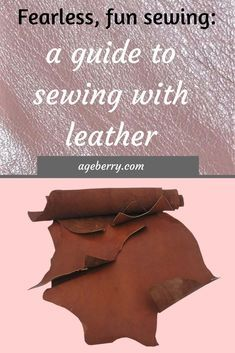cuero: (28, 188, 220, 347)
